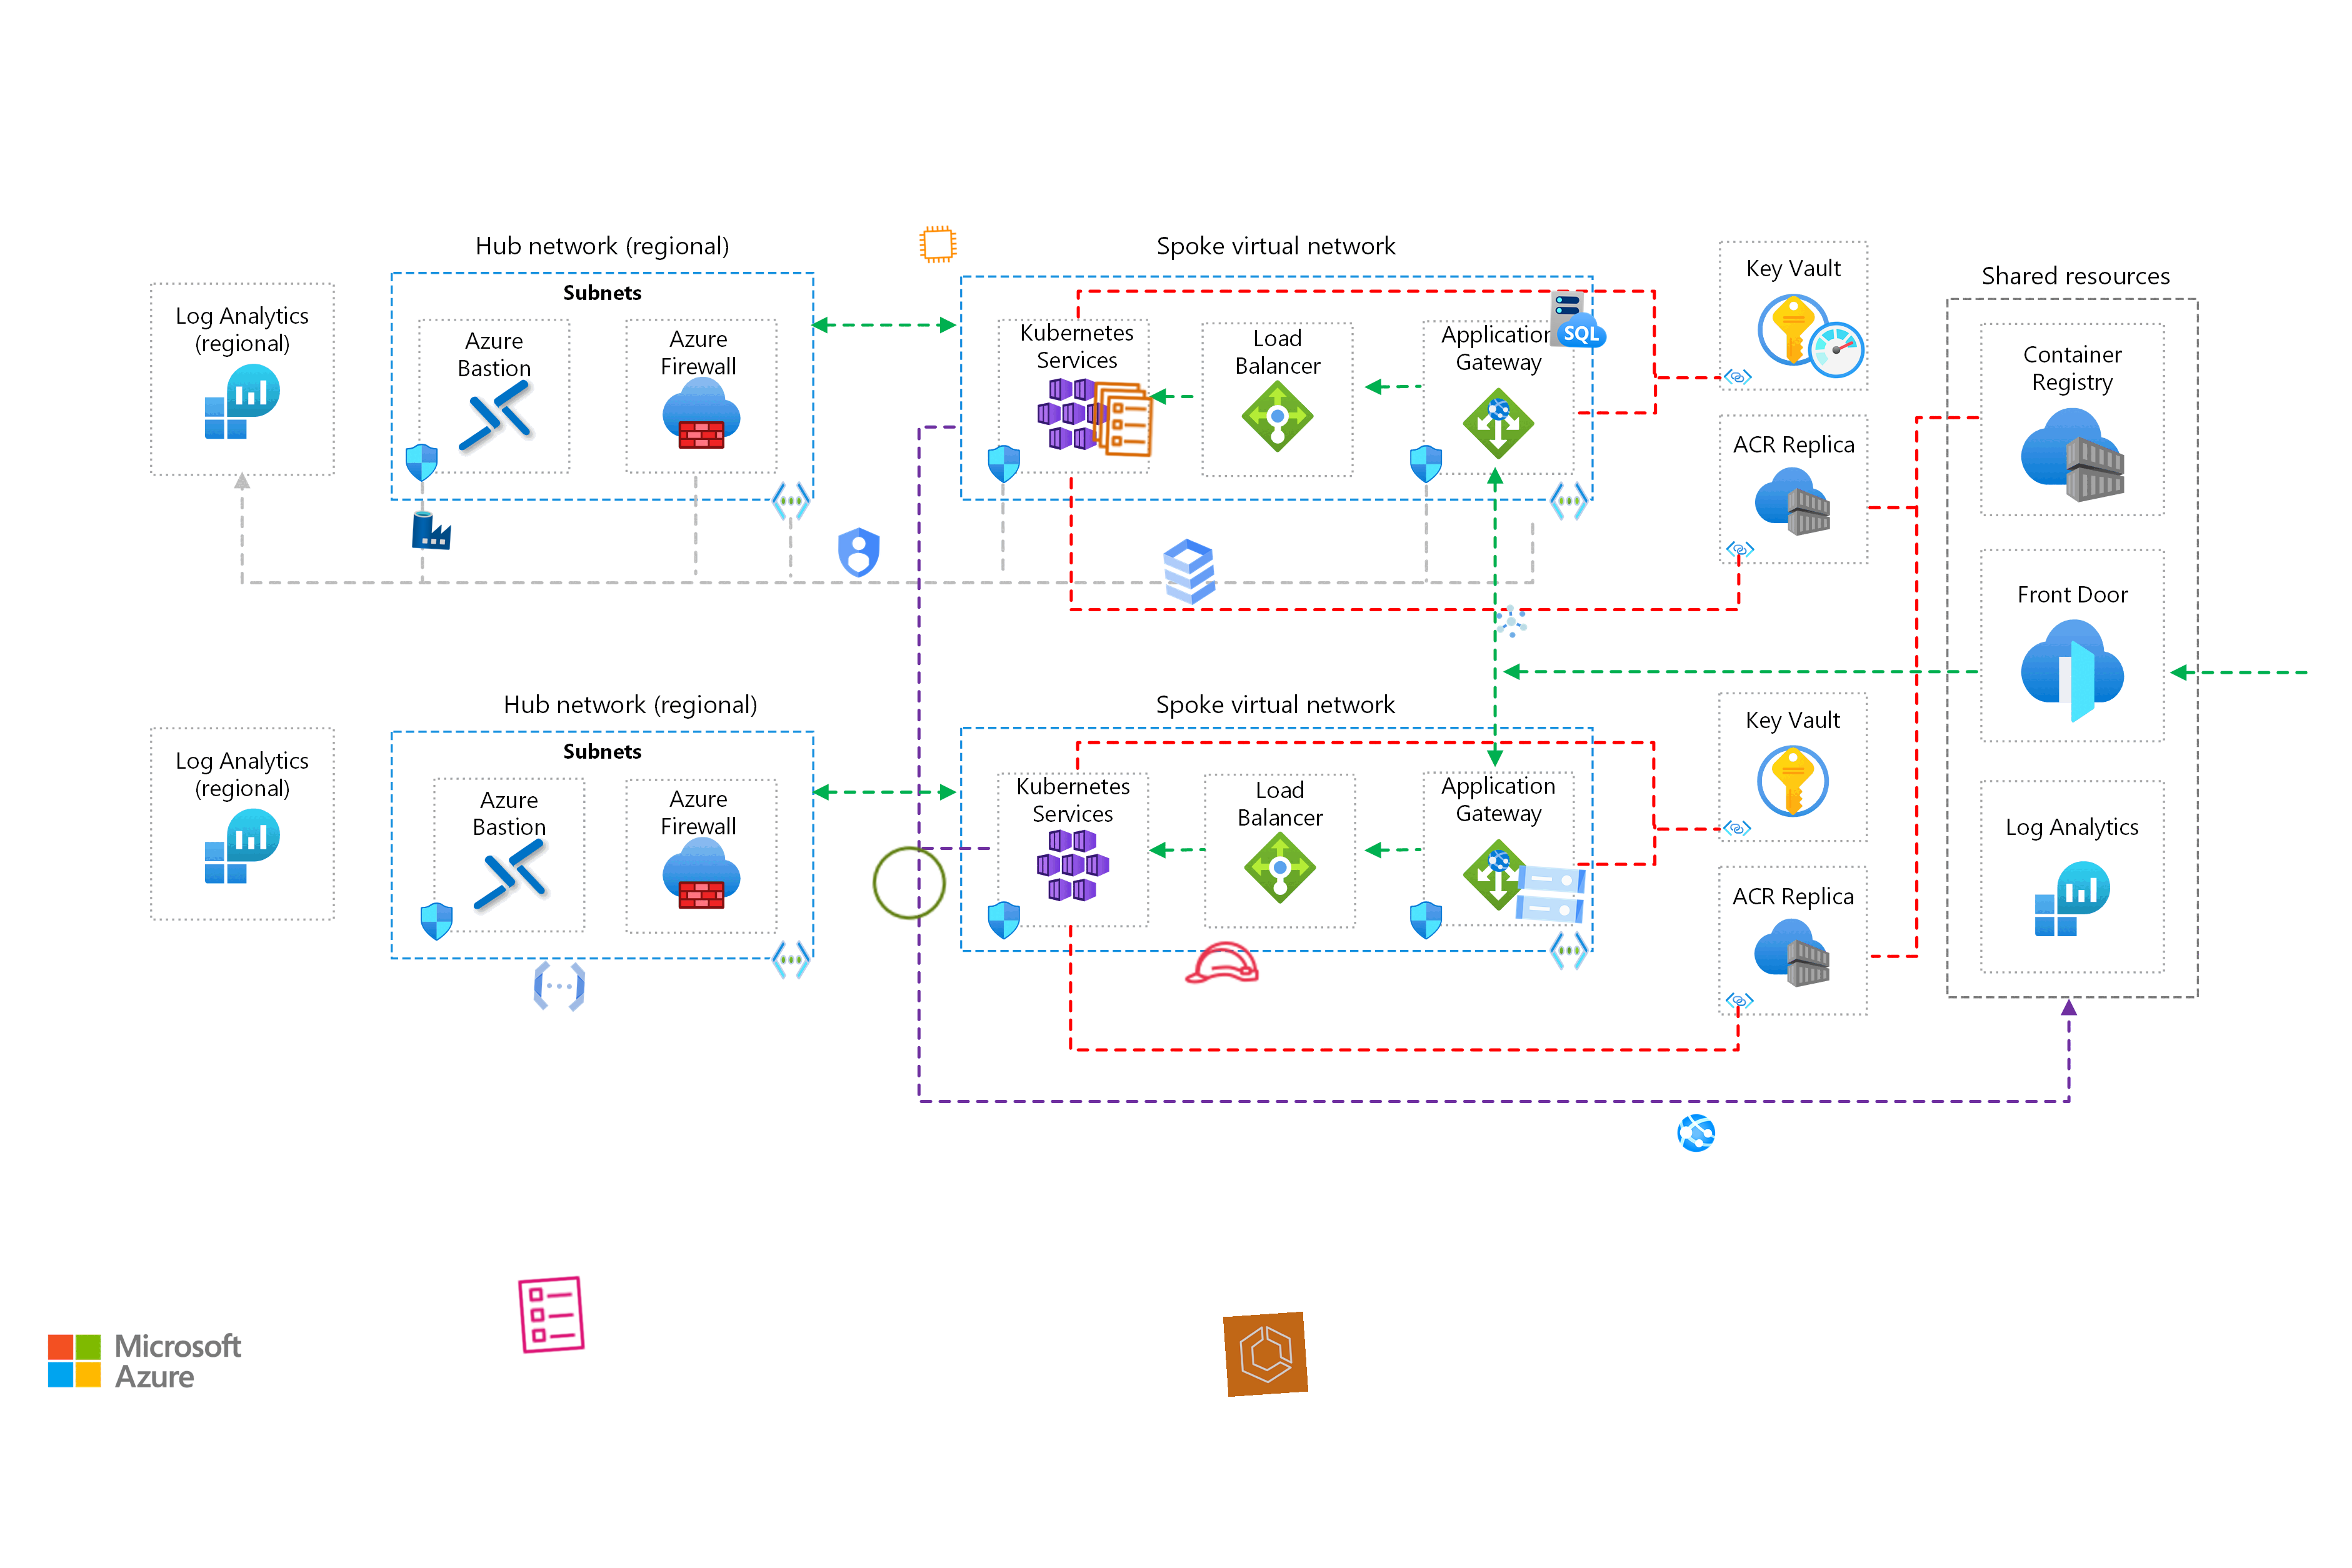aws_amazon_elastic_container_service: (1223, 1311, 1309, 1398)
aws_cloudformation_template: (507, 1272, 593, 1358)
aws_ec2_instance: (917, 222, 959, 266)
aws_elastic_container_service_service: (1081, 378, 1165, 462)
aws_identity_access_management_role: (1181, 922, 1262, 1004)
aws_simple_storage_service_object: (866, 840, 952, 926)
azure_app_services: (1677, 1113, 1717, 1153)
azure_data_factories: (411, 509, 453, 551)
azure_monitor: (1804, 317, 1869, 383)
azure_sql_managed_instance: (1547, 289, 1610, 350)
gcp_cloud_functions: (527, 954, 591, 1018)
gcp_cloud_sql: (1146, 528, 1234, 616)
gcp_cloud_storage: (1507, 850, 1594, 938)
gcp_identity_and_access_management: (828, 521, 889, 583)
gcp_pubsub: (1489, 598, 1533, 642)
